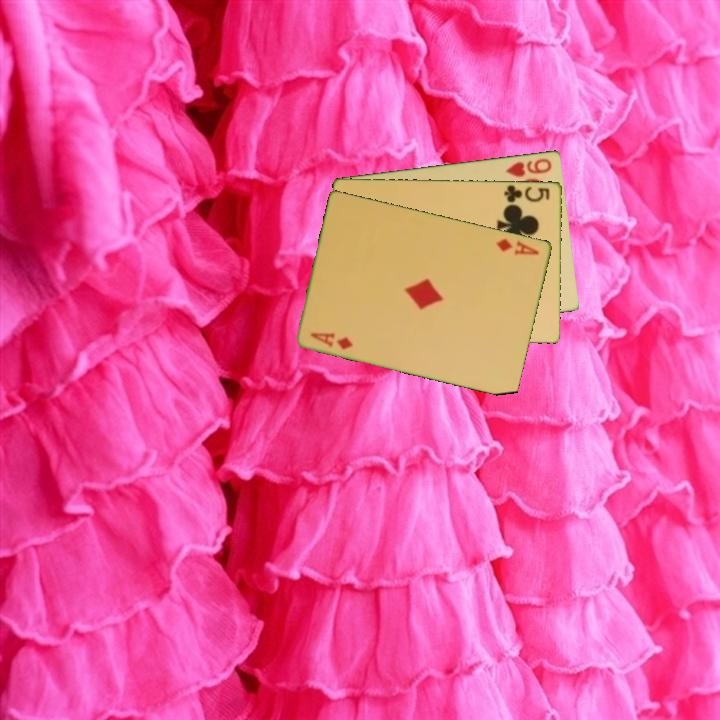5c: (501, 182, 552, 205)
9h: (502, 155, 555, 180)
Ad: (307, 329, 356, 353), (493, 235, 542, 258)
